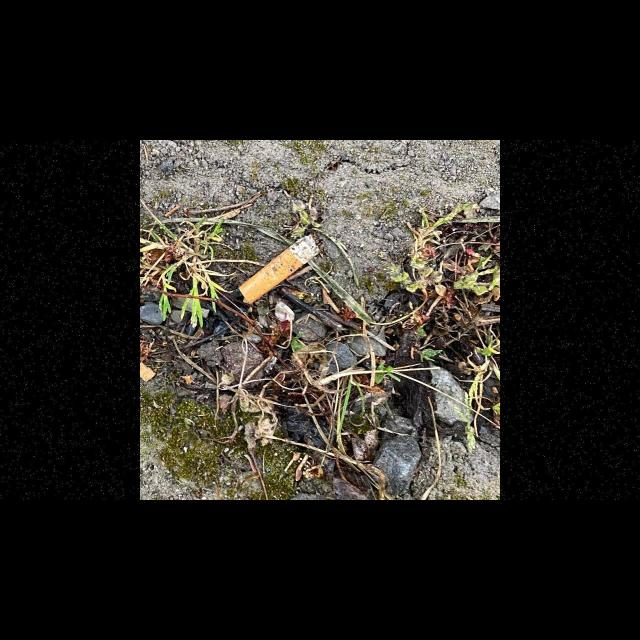cigarette: (238, 234, 321, 304)
